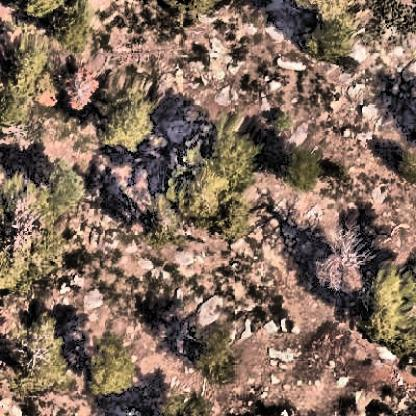tree-top: (1, 165, 81, 299), (160, 131, 261, 219), (1, 311, 71, 400), (68, 326, 145, 401), (345, 270, 416, 351), (84, 77, 152, 158), (174, 321, 254, 387), (296, 1, 359, 73), (1, 48, 44, 132), (33, 1, 101, 54), (34, 158, 89, 222), (272, 145, 328, 197), (142, 388, 218, 416), (391, 149, 416, 186)
